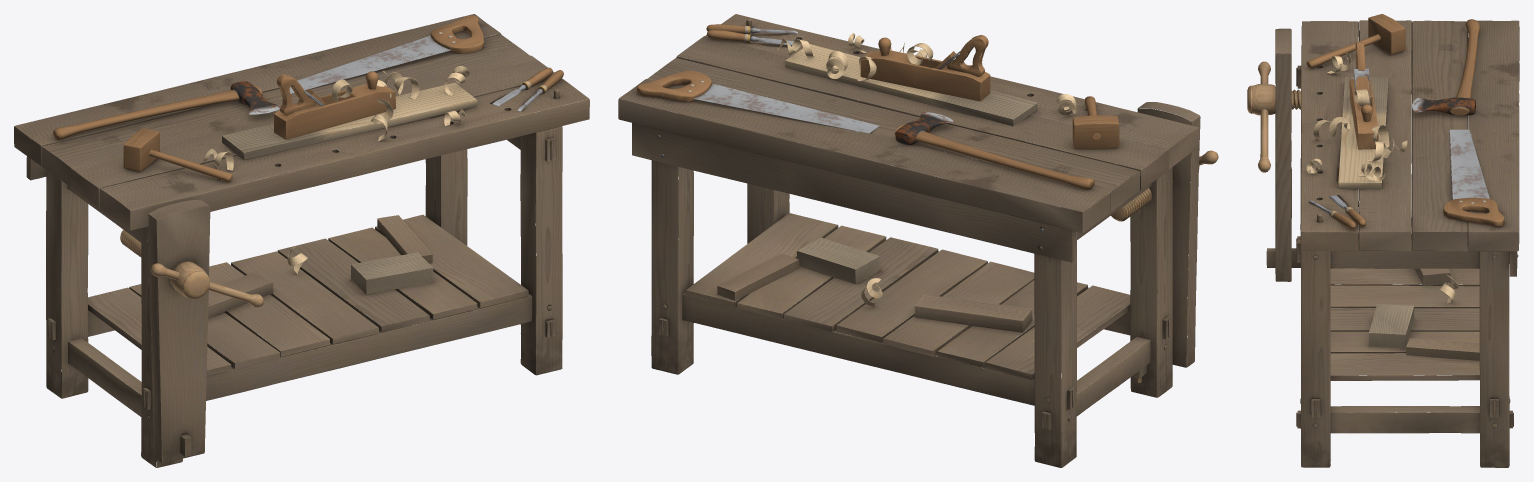
Rendered from b_bench.glb.
3 views of the same model, side by side, from view 1: azimuth 30°, elevation 25°; view 2: azimuth 150°, elevation 25°; view 3: azimuth 270°, elevation 25° (orthographic). The views are drawn at different scales.
Parts seen in each view (by area): view 1: WB_Bench, WB_Tools; view 2: WB_Bench, WB_Tools; view 3: WB_Bench, WB_Tools.
Boxes of the visible parts, x1=… form: WB_Bench: x1=14, y1=14, x2=589, y2=467; WB_Tools: x1=53, y1=15, x2=563, y2=294; WB_Bench: x1=618, y1=14, x2=1218, y2=467; WB_Tools: x1=637, y1=24, x2=1119, y2=305; WB_Bench: x1=1247, y1=20, x2=1519, y2=467; WB_Tools: x1=1306, y1=14, x2=1518, y2=348.
Size of the model in its own units: 1.61 by 1.1 by 0.8731.
2 materials, 2 textured.
